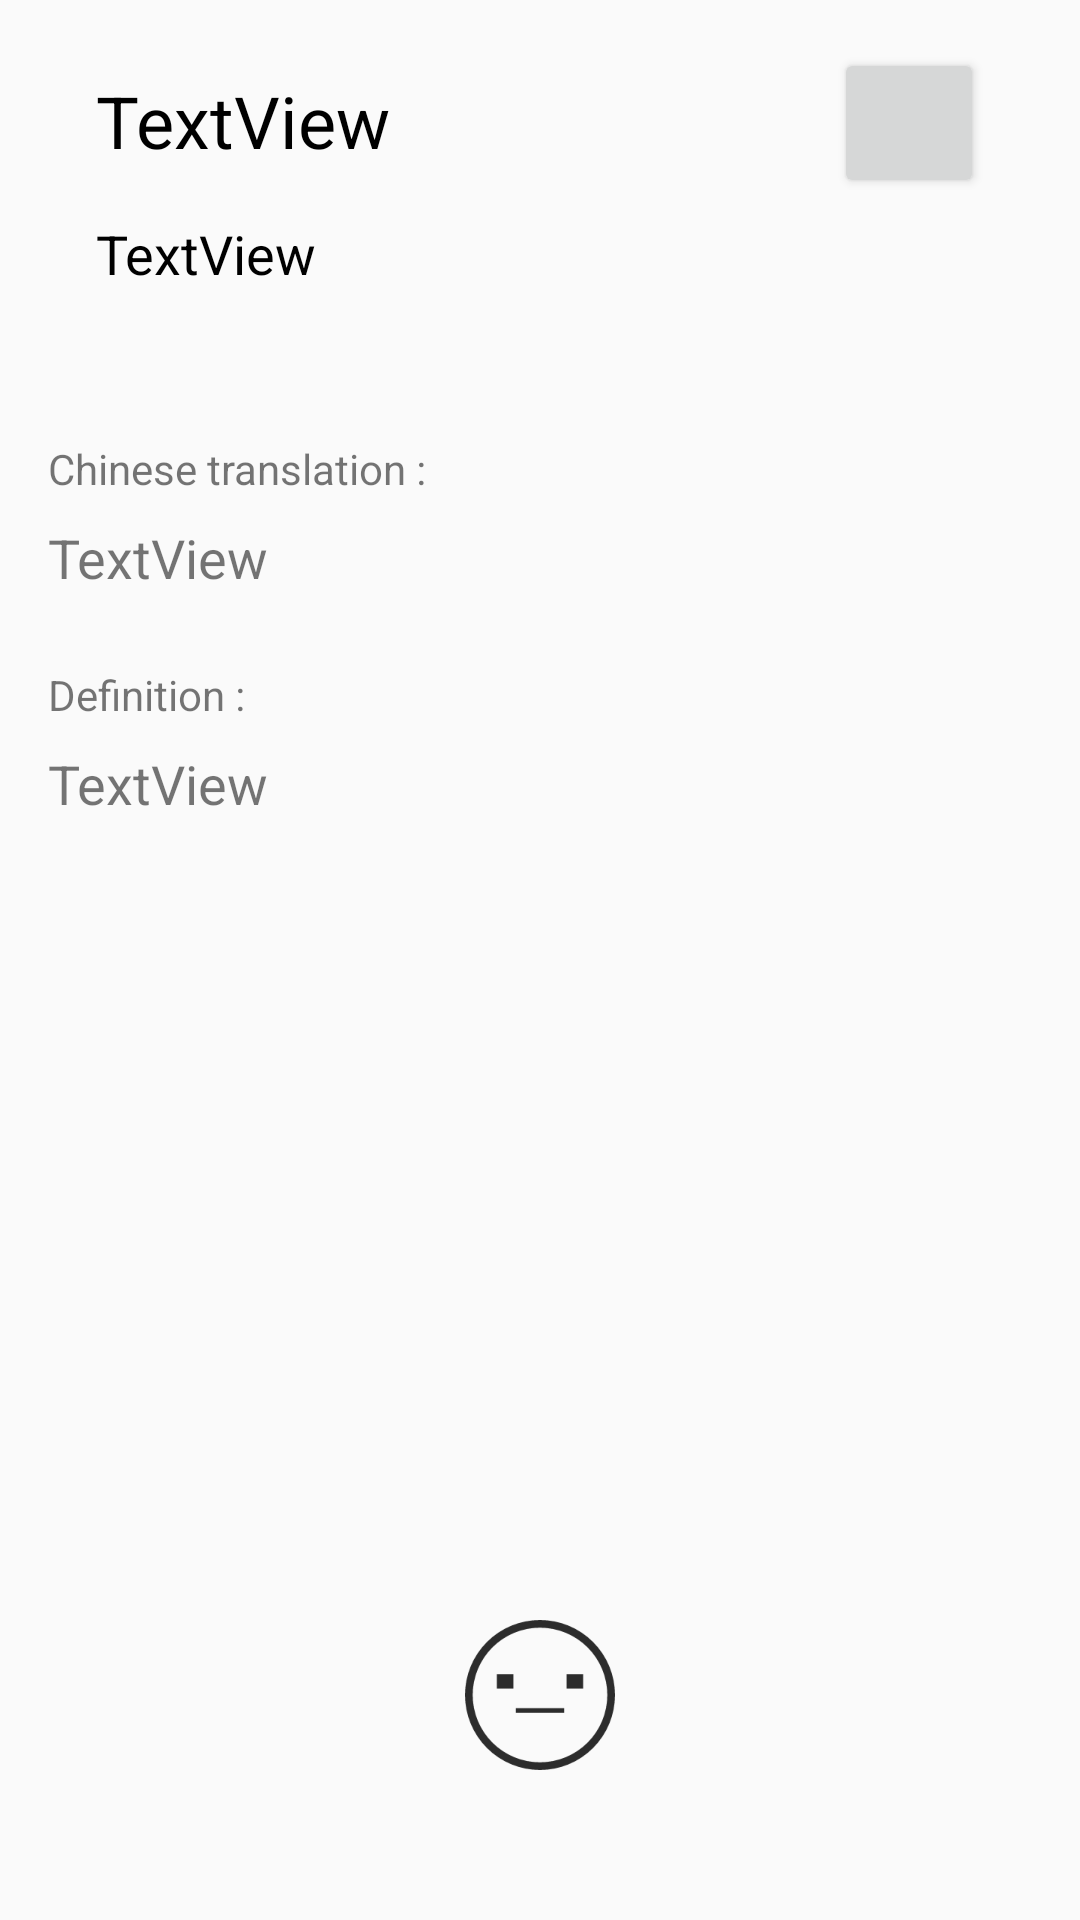

Where icons sit on this 1080px×1920px app screen, as Rect(x1, y1, x2, y2):
pokerf: Rect(465, 1620, 615, 1770)
